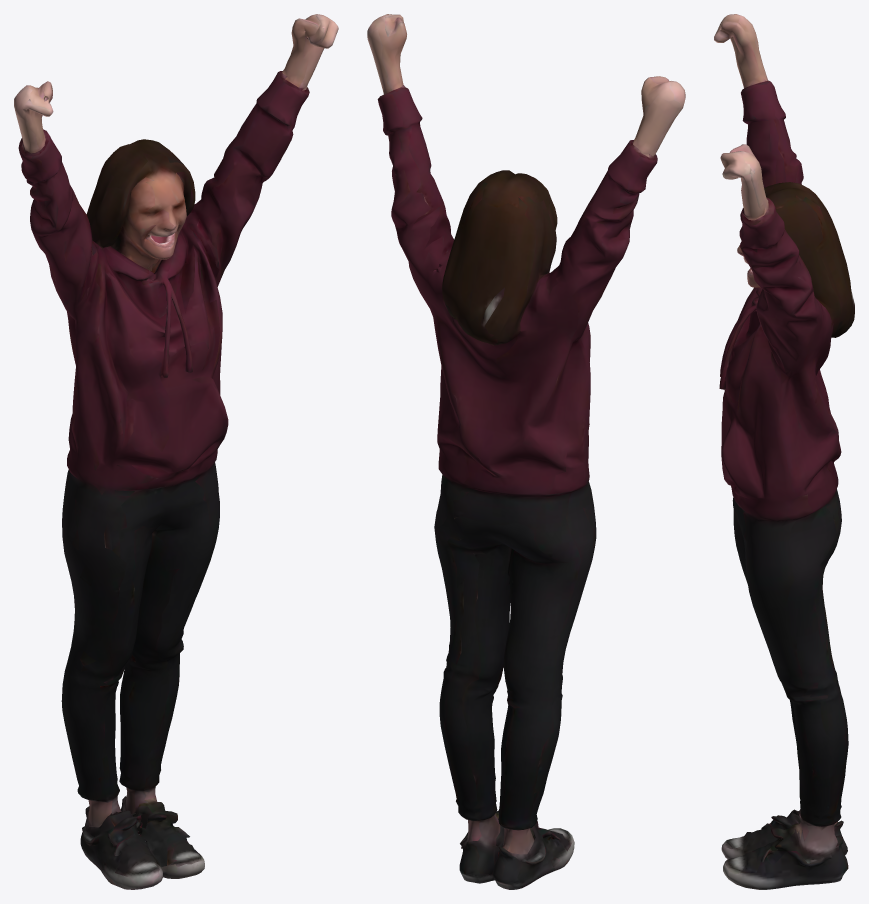
Rendered from fan-w-arms-s1.glb.
3 views of the same model, side by side, from view 1: azimuth 30°, elevation 25°; view 2: azimuth 150°, elevation 25°; view 3: azimuth 270°, elevation 25° (orthographic). The views are drawn at different scales.
Parts seen in each view (by area): view 1: geometry_0; view 2: geometry_0; view 3: geometry_0.
Part boxes in pixels (box(x1,y1,x2,y2)): geometry_0: box(14, 14, 338, 889); geometry_0: box(367, 14, 685, 889); geometry_0: box(714, 14, 854, 889).
Bounding box in the file's own units: 0.4075 × 1 × 0.1611.
Materials: 1 (1 with a texture image).
